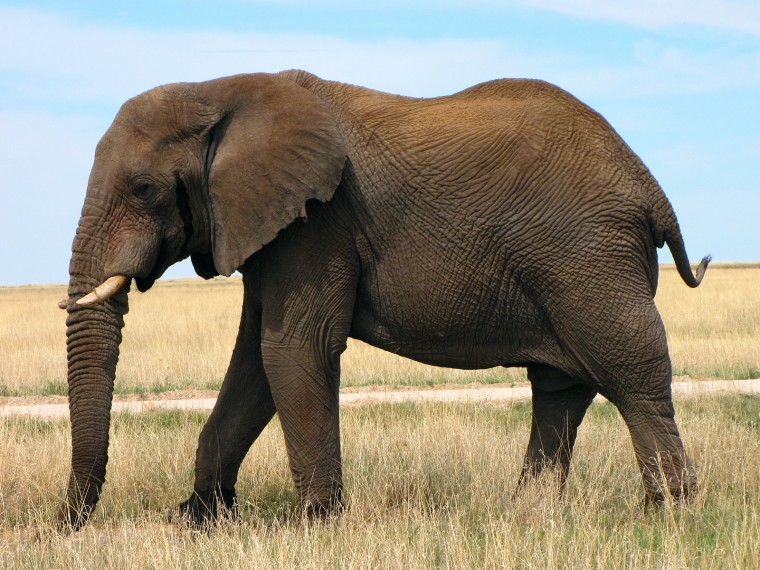africanelephant: (39, 52, 331, 378)
